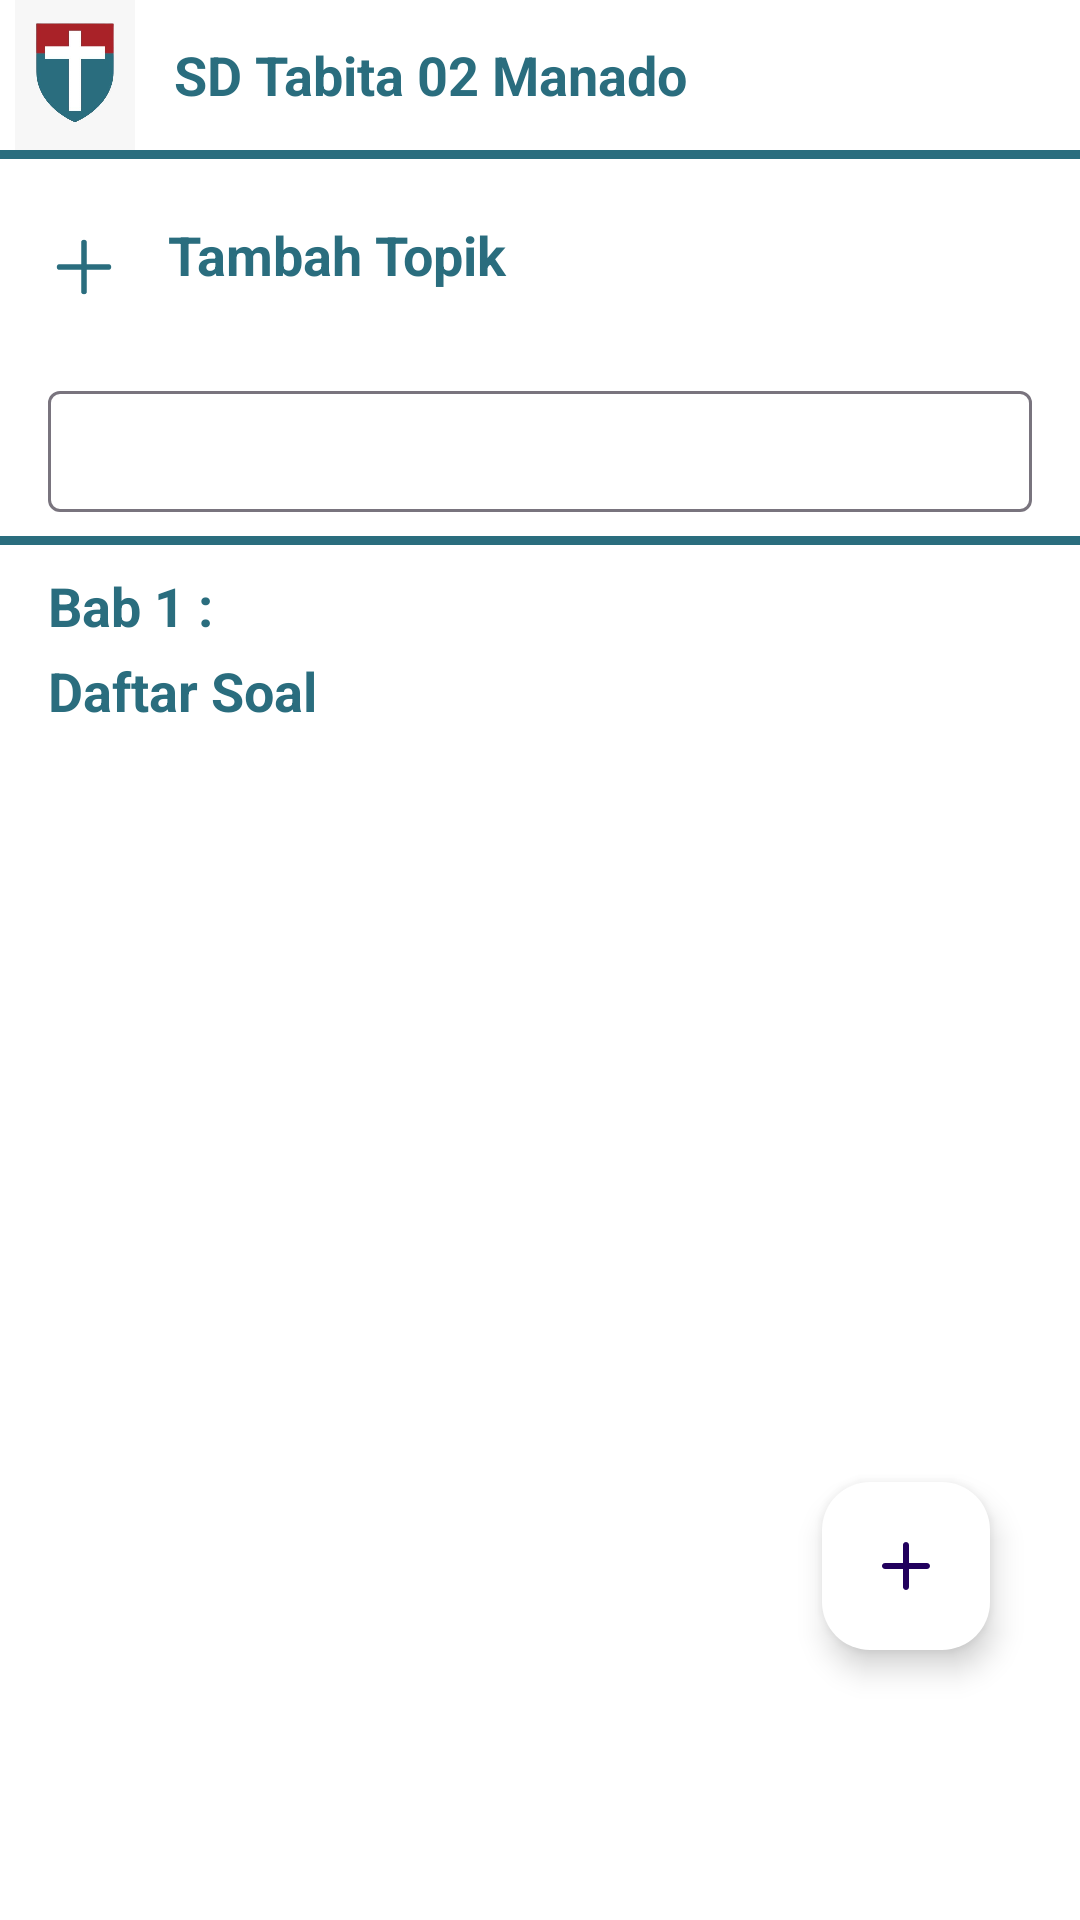

Named icons in this screenshot (1080px×1920px) and their centers, point (x, y):
add: point (84, 267), point (906, 1566)
